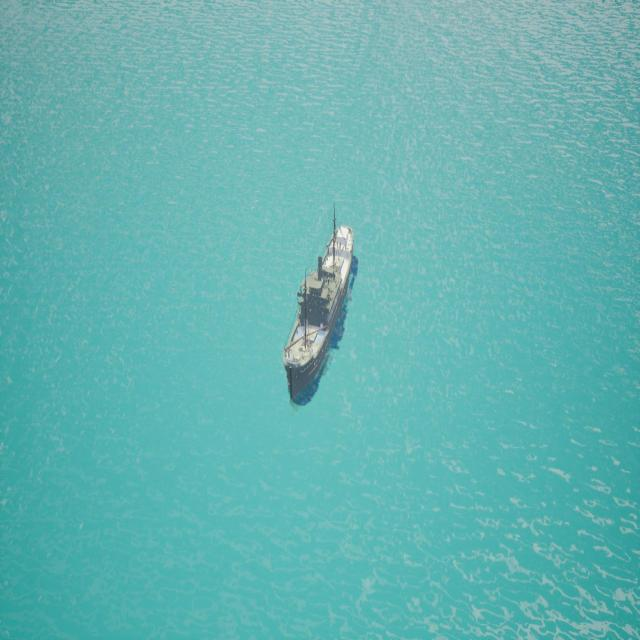fishing ship: (284, 225, 358, 410)
